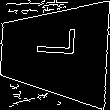L_W: (30, 35, 79, 69)
